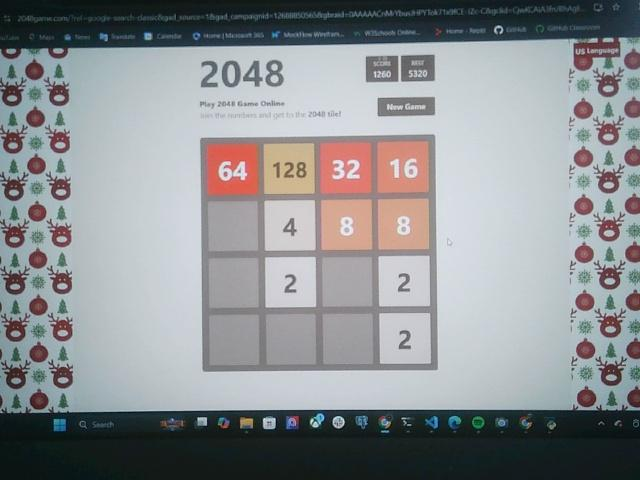board: (201, 137, 437, 370)
tile: (379, 199, 431, 251), (378, 141, 429, 194), (379, 313, 432, 364), (265, 201, 316, 252), (266, 257, 317, 308), (265, 143, 315, 195), (379, 256, 431, 306), (208, 144, 258, 194), (321, 143, 371, 193), (321, 201, 373, 249)
